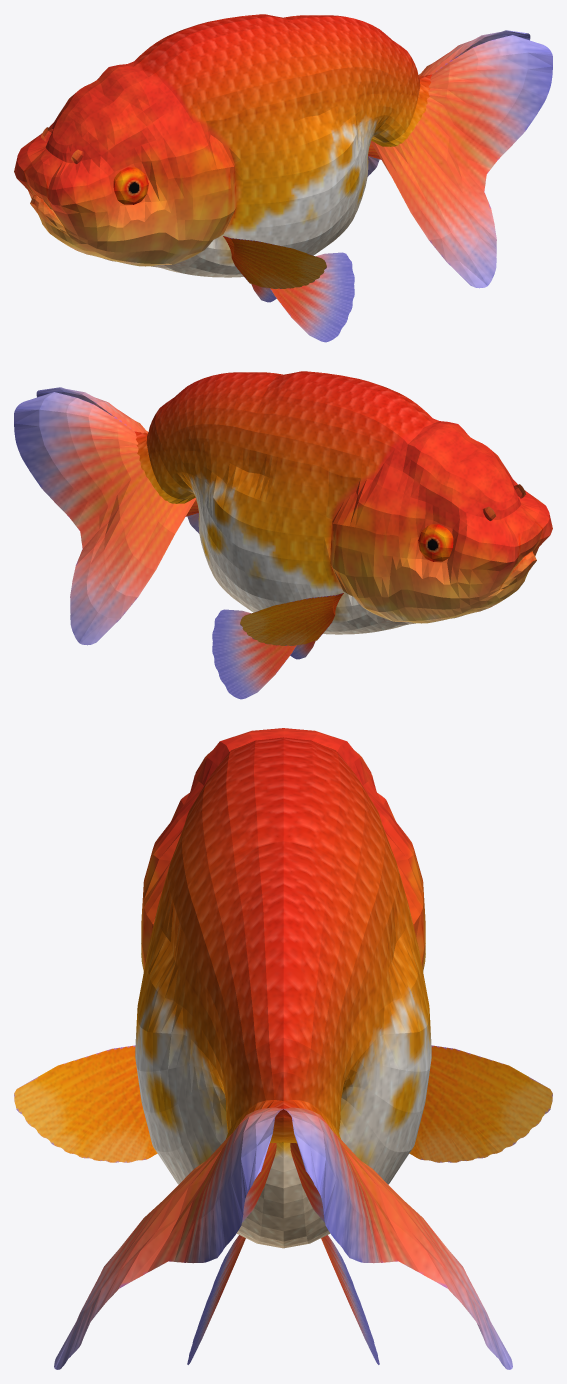
The model's file is afish.gltf.
3 views of the same model, one above another, from view 1: azimuth 30°, elevation 25°; view 2: azimuth 150°, elevation 25°; view 3: azimuth 270°, elevation 25° (orthographic). The views are drawn at different scales.
Visible parts, largest first — view 1: 胖金鱼; view 2: 胖金鱼; view 3: 胖金鱼.
Boxes of the visible parts, box(x1,y1,x2,y2) form: 胖金鱼: box(14, 14, 552, 342); 胖金鱼: box(14, 371, 552, 699); 胖金鱼: box(14, 728, 552, 1369).
Bounding box in the file's own units: 0.0399 × 0.0238 × 0.0217.
1 material, 1 textured.
